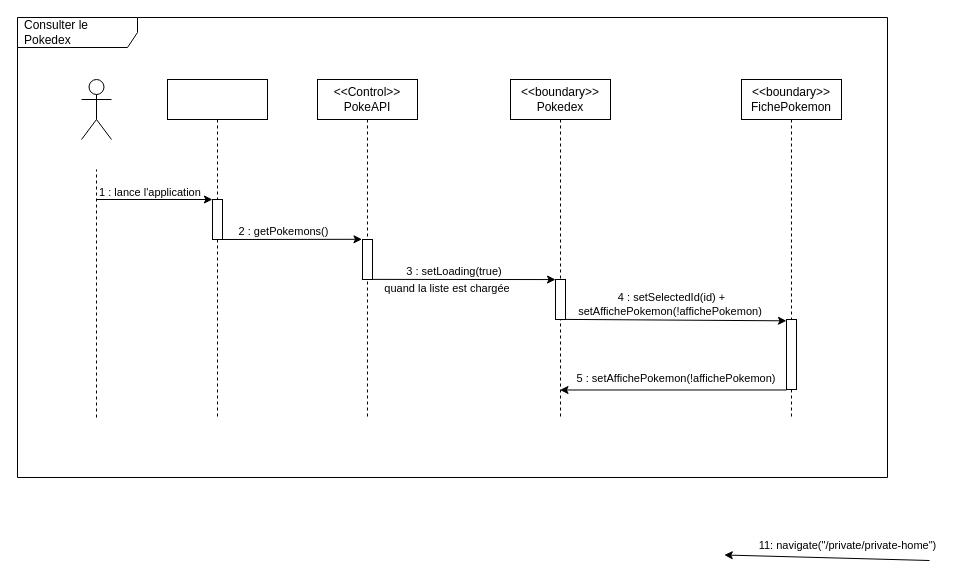
Some shapes in this 955 by 586 pixel diagram are drawn without their labels. Each missing label, with the box of its shape:
: utilisateur: (80, 78, 112, 140)
<<boundary>> LoaderPage: (166, 78, 268, 418)
